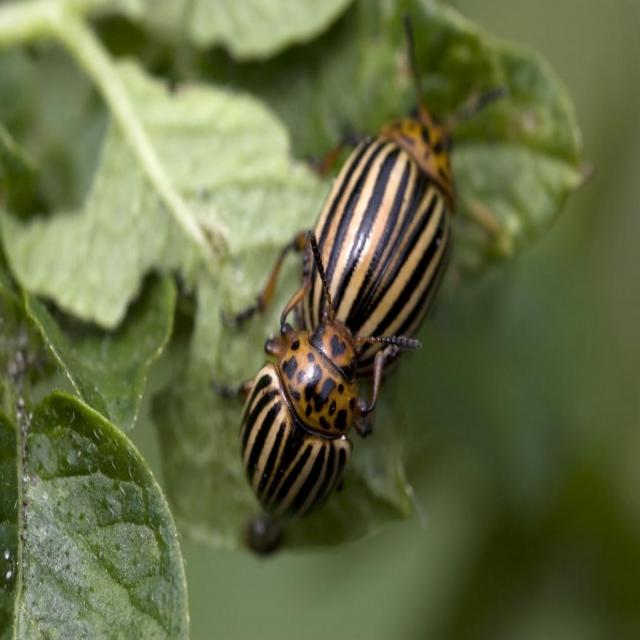ShuCaiHuaBanChong-Grown-: (316, 92, 478, 381), (235, 308, 385, 542)
